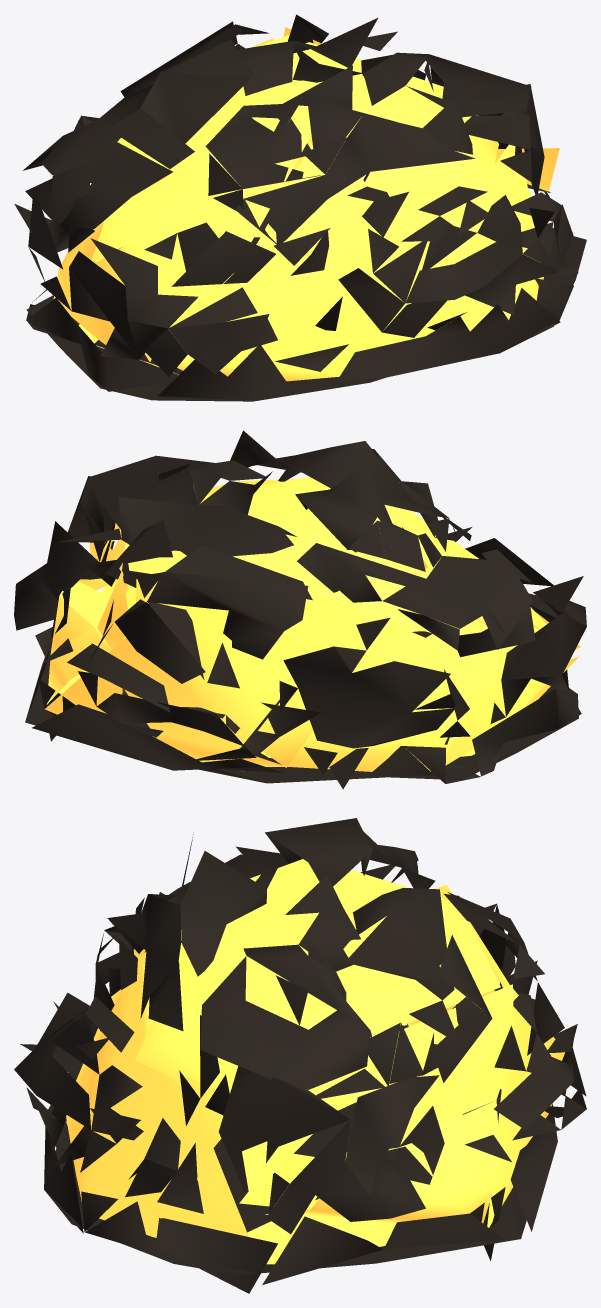
Rendered from lava-rock-lod1.glb.
The picture shows the model from 3 angles, top to bottom: view 1: azimuth 30°, elevation 25°; view 2: azimuth 150°, elevation 25°; view 3: azimuth 270°, elevation 25°; orthographic projection. The views are drawn at different scales.
Parts seen in each view (by area): view 1: lava-rock; view 2: lava-rock; view 3: lava-rock.
Part boxes in pixels (x1,y1,x2,y2): lava-rock: [14, 14, 586, 401]; lava-rock: [14, 430, 586, 789]; lava-rock: [14, 818, 586, 1293].
Size of the model in its own units: 3.48 by 1.73 by 2.95.
